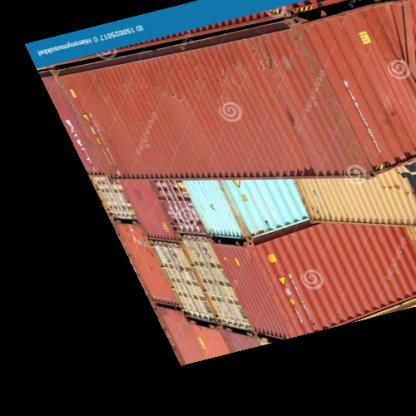Damage: (233, 54, 280, 92)
